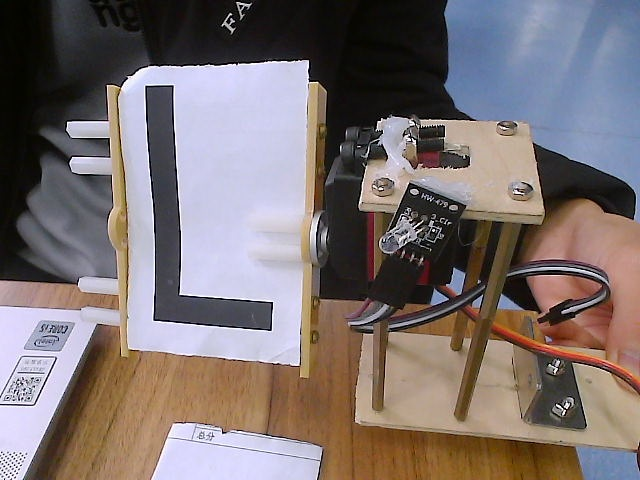L: (43, 41, 388, 399)
